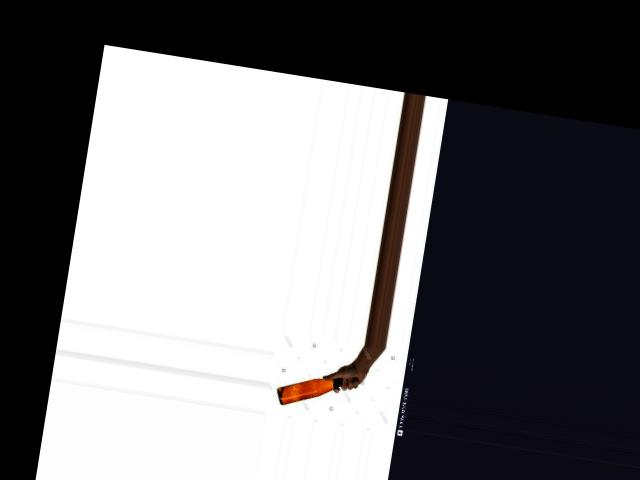beer: (274, 365, 357, 415)
